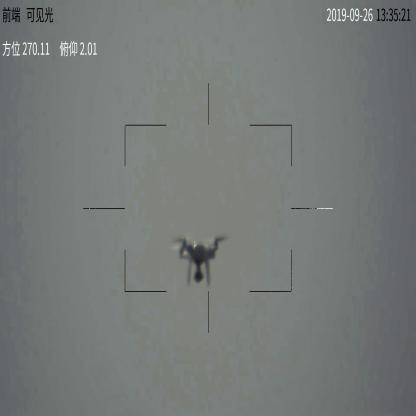uav: (172, 234, 230, 286)
